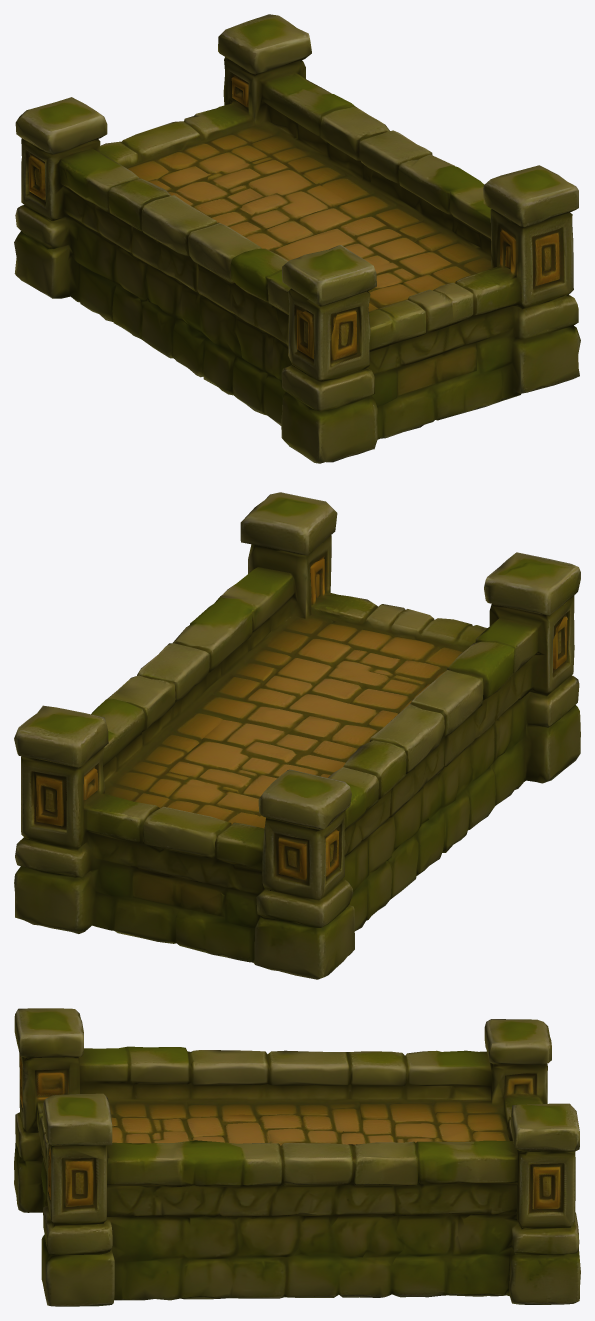
The model's file is path.glb.
3 renders of one model, top to bottom at view 1: azimuth 30°, elevation 25°; view 2: azimuth 150°, elevation 25°; view 3: azimuth 270°, elevation 25°, orthographic. The views are drawn at different scales.
Parts seen in each view (by area): view 1: path_mesh; view 2: path_mesh; view 3: path_mesh.
Part boxes in pixels (bbox=[...]): path_mesh: bbox=[14, 14, 580, 463]; path_mesh: bbox=[14, 492, 580, 979]; path_mesh: bbox=[14, 1008, 580, 1306].
Size of the model in its own units: 0.6252 by 0.421 by 1.03.
Materials: 1 (1 with a texture image).
